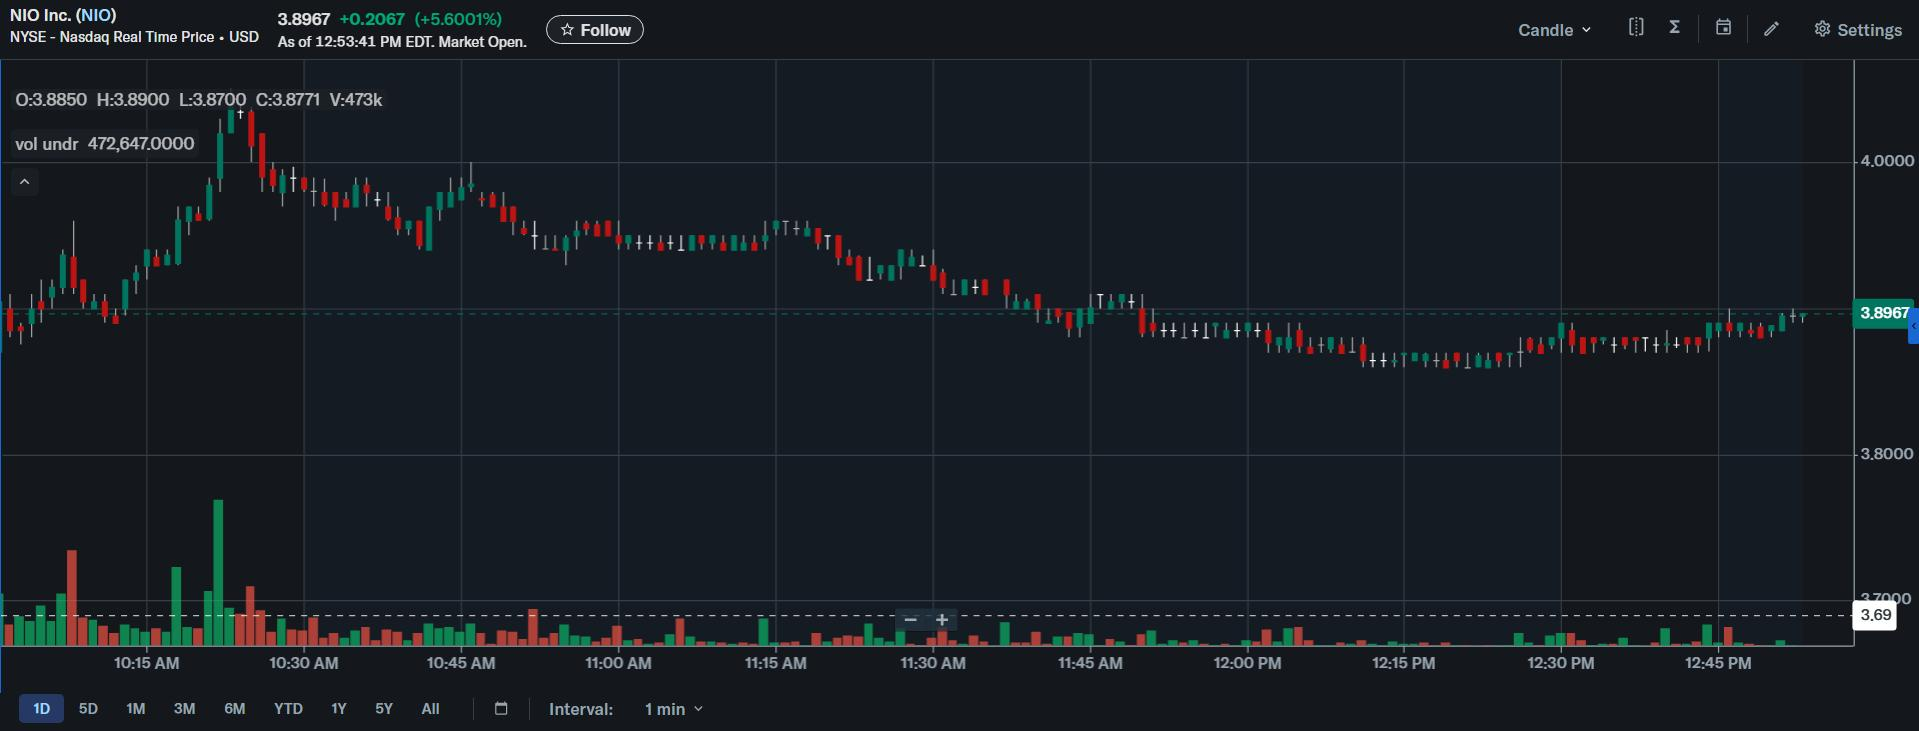Downtrend: (241, 111, 344, 223), (461, 151, 542, 272)
Sideways: (1253, 310, 1824, 375), (518, 204, 857, 277)
Uptrend: (106, 154, 226, 324), (419, 159, 477, 262)
